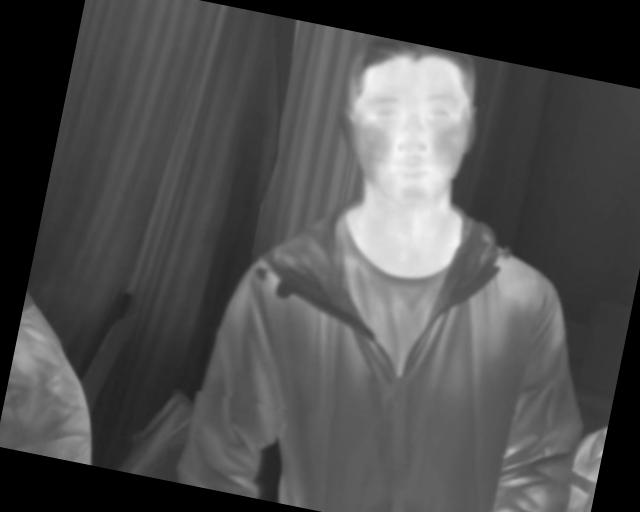face: (328, 33, 490, 213)
